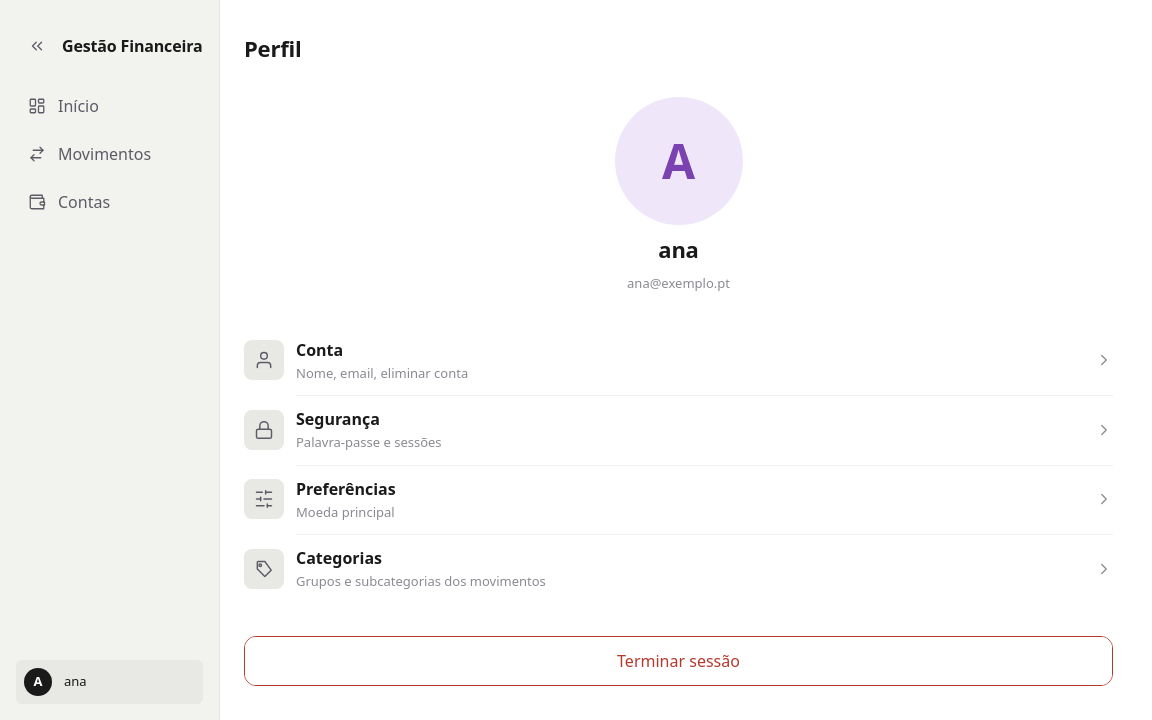
Test: Moldura da aplicação › a página de Perfil lista as secções e cada uma abre o seu sub-ecrã
This screenshot has width=1152, height=720.
expect the heading "Perfil" is shown: met, box [244, 32, 301, 65]
expect the link "Conta Nome, email, eliminar conta" is shown: met, box [228, 326, 1129, 395]
Entrar numa secção leva ao sub-ecrã (marcador "Em breve" por agora).
Click the link "Segurança Palavra-passe e sessões" at {"x": 264, "y": 430}, box [228, 395, 1129, 464]
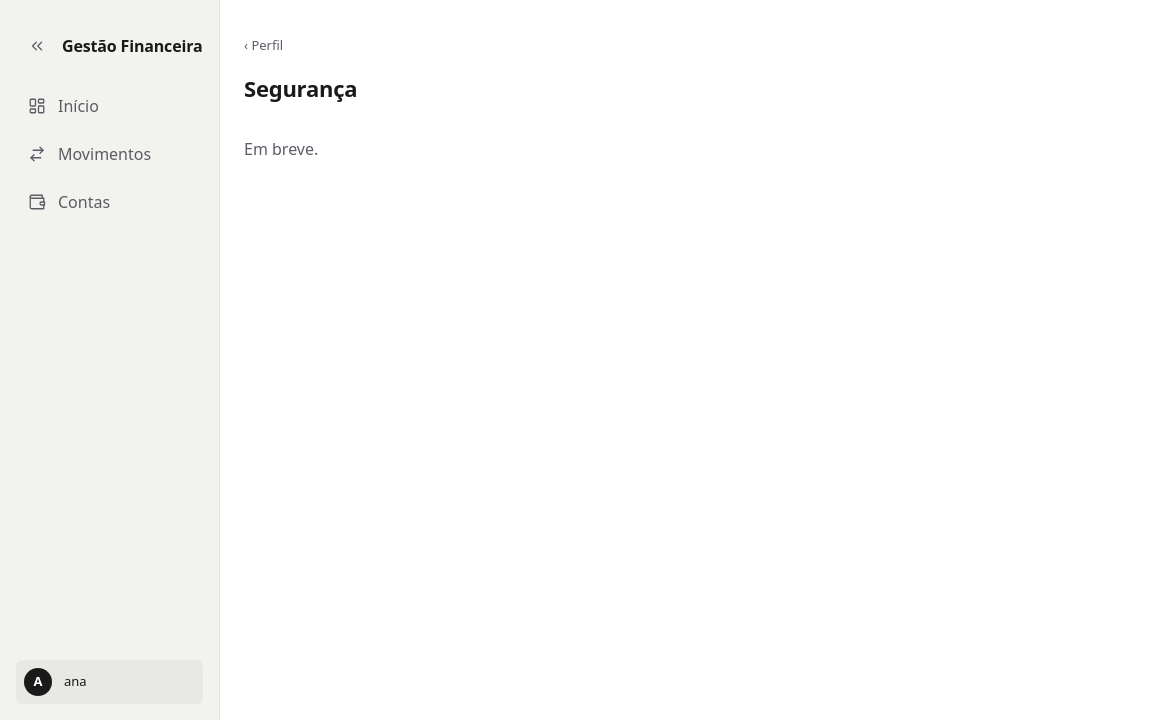
expect the heading "Segurança" is shown: met, box [244, 72, 357, 104]
expect the text "Em breve." is shown: met, box [244, 138, 318, 160]
